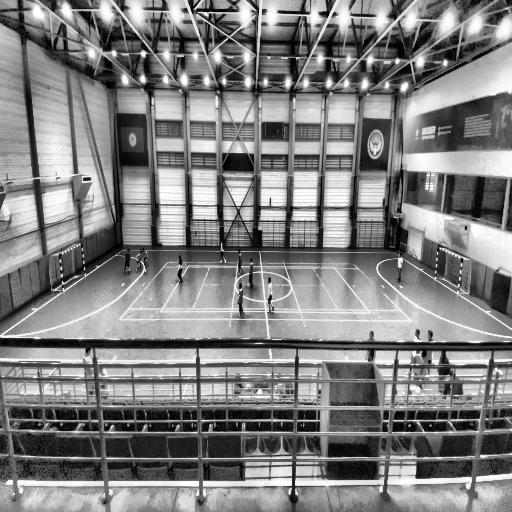ball: (144, 269, 147, 275)
player: (266, 276, 276, 315), (237, 281, 245, 320), (396, 252, 404, 283), (123, 247, 131, 275), (219, 237, 227, 265), (134, 250, 144, 272), (248, 256, 254, 290), (237, 249, 244, 275), (142, 248, 149, 268), (178, 255, 182, 283)
